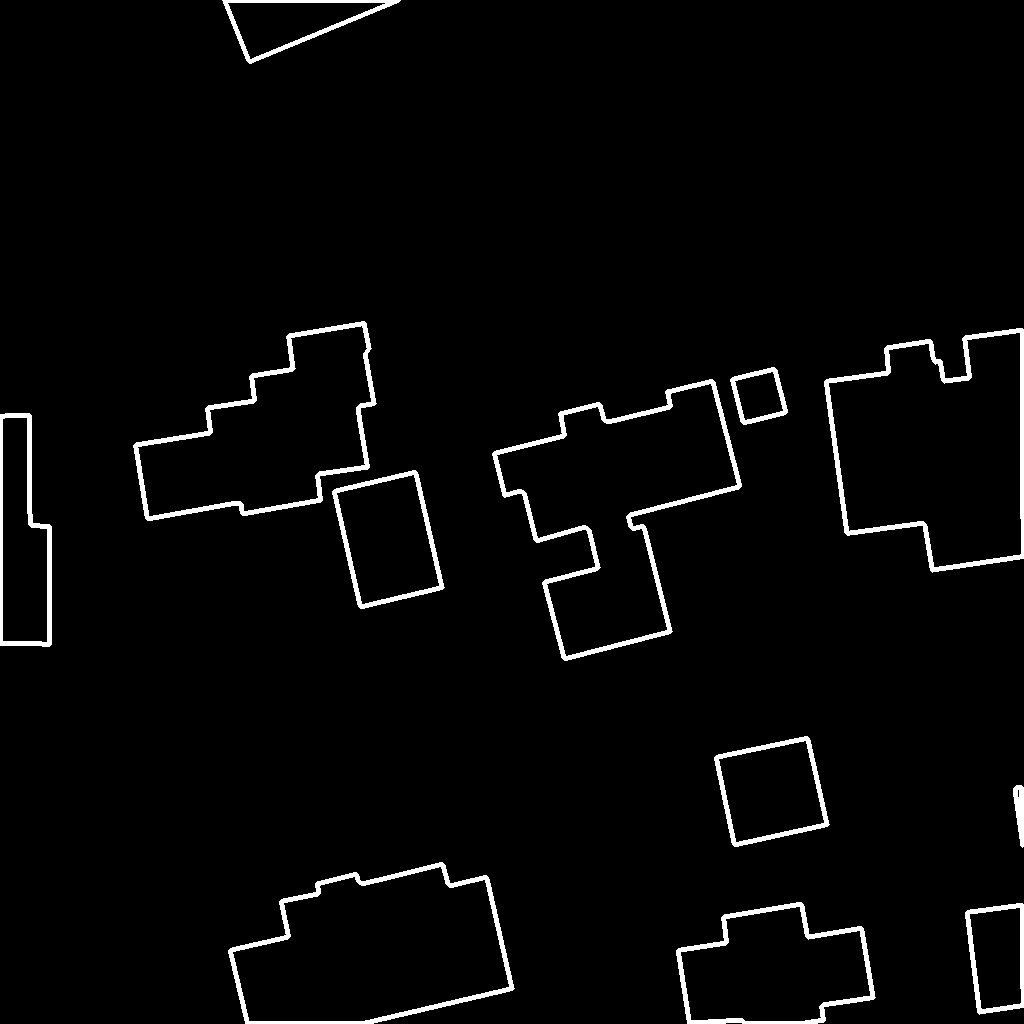building: (494, 381, 741, 660), (826, 330, 1024, 571), (135, 323, 375, 520), (230, 864, 513, 1024), (678, 904, 874, 1024), (334, 472, 443, 608), (967, 787, 1024, 1013), (716, 738, 828, 846), (0, 415, 51, 645), (224, 0, 401, 63), (732, 369, 787, 424), (0, 0, 26, 1)
